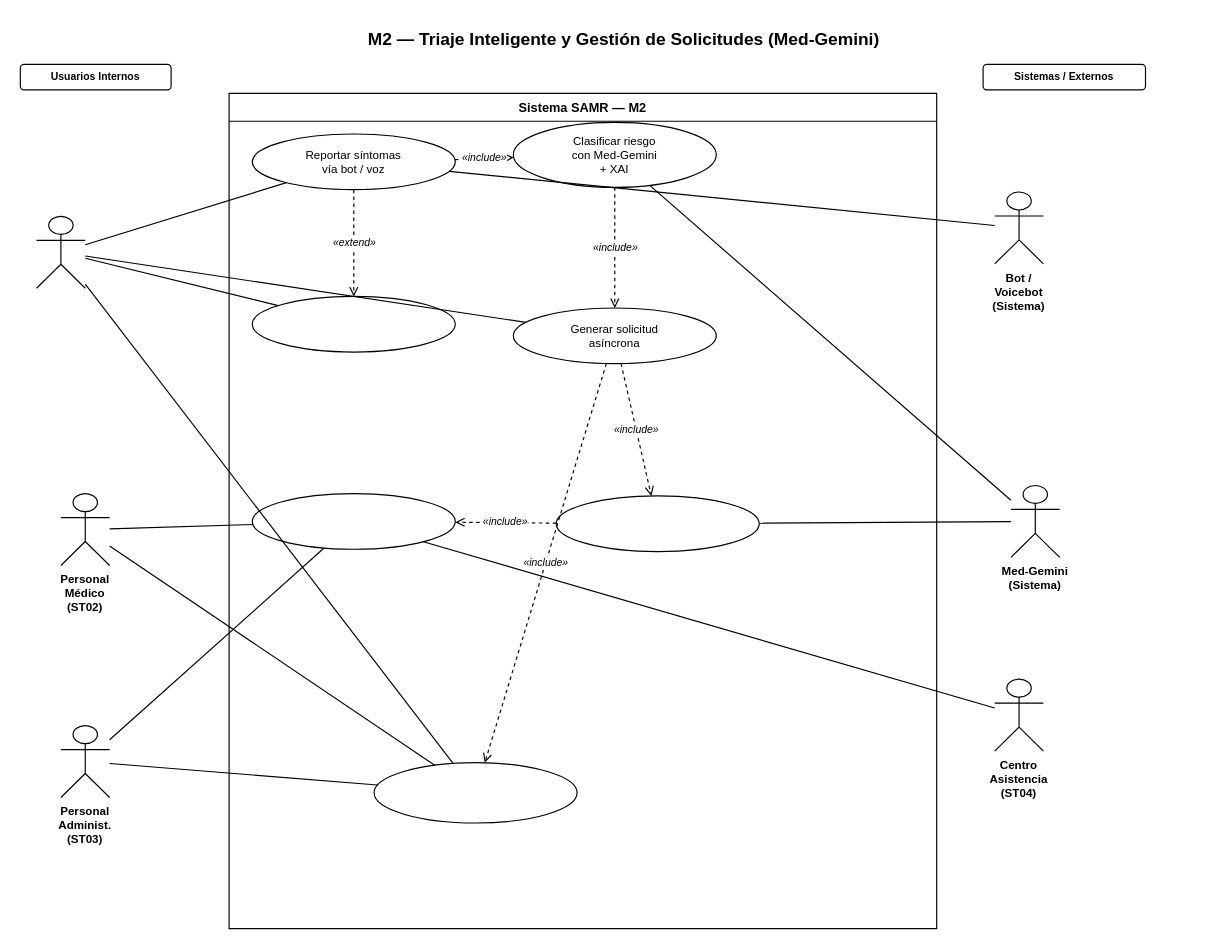
Some shapes in this 1224 by 949 pixel diagram are drawn without their labels. Here are the shapes that lost their labels. From the top down, the centre of each, then its label:
At (x=60, y=251): "Paciente (ST01)".
At (x=353, y=323): "Escalar bot → médico".
At (x=353, y=520): "Asignar centro y médico".
At (x=657, y=523): "Ejecutar matching inteligente".
At (x=475, y=792): "Ver estado en panel en tiempo real".
